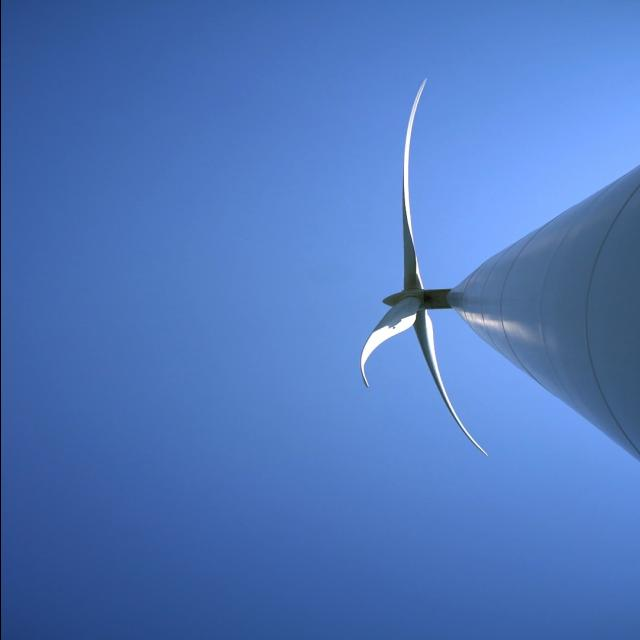blade 1: (421, 344, 488, 434)
blade 2: (399, 80, 427, 284)
blade 3: (349, 314, 416, 396)
